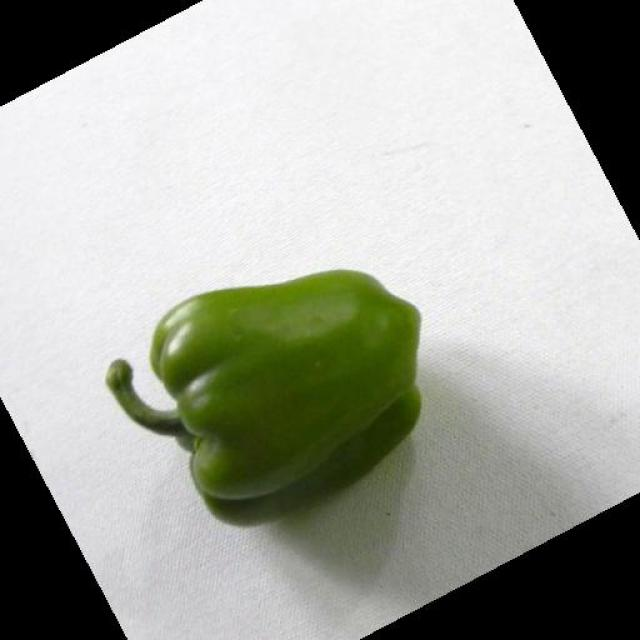Fresh_Capsicum: (116, 279, 462, 508)
